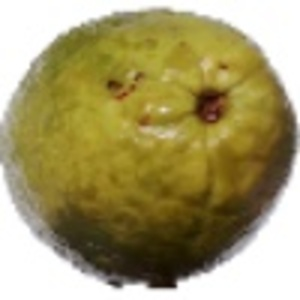goiaba: (3, 5, 293, 277)
